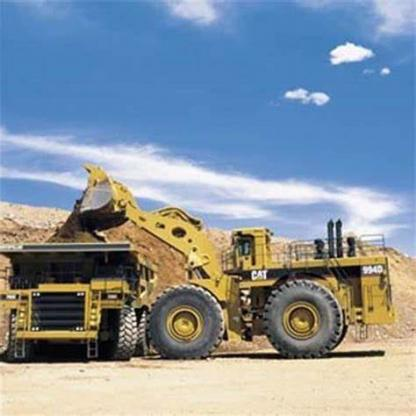bull_dozer/loader/grader: (78, 162, 395, 360)
